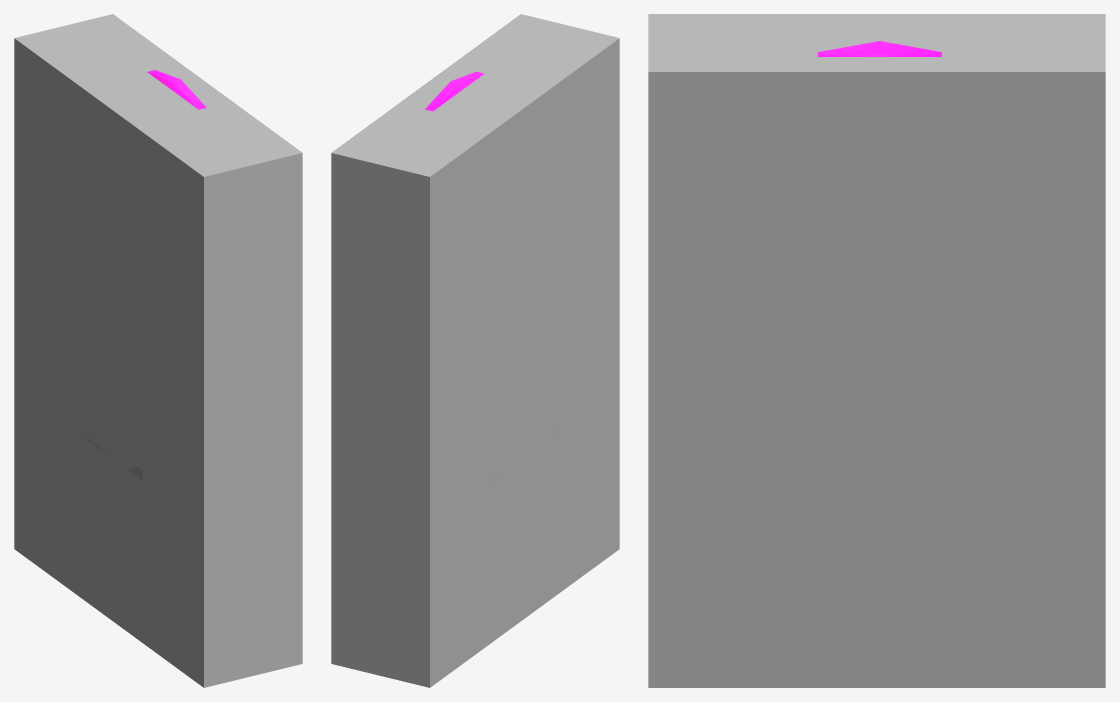
3 renders of one model, left to right at view 1: azimuth 30°, elevation 25°; view 2: azimuth 150°, elevation 25°; view 3: azimuth 270°, elevation 25°, orthographic. The views are drawn at different scales.
Visible parts, largest first — view 1: SM_TV_02_ConvexHulls, SM_TV_02; view 2: SM_TV_02_ConvexHulls, SM_TV_02; view 3: SM_TV_02_ConvexHulls, SM_TV_02.
Part boxes in pixels (bbox=[...]): SM_TV_02_ConvexHulls: bbox=[14, 14, 302, 687]; SM_TV_02: bbox=[78, 70, 206, 480]; SM_TV_02_ConvexHulls: bbox=[331, 14, 619, 687]; SM_TV_02: bbox=[425, 71, 555, 480]; SM_TV_02_ConvexHulls: bbox=[648, 14, 1105, 687]; SM_TV_02: bbox=[817, 41, 941, 56].
Bounding box in the file's own units: 60.12 × 200 × 302.
Materials: 2 (1 with a texture image).
